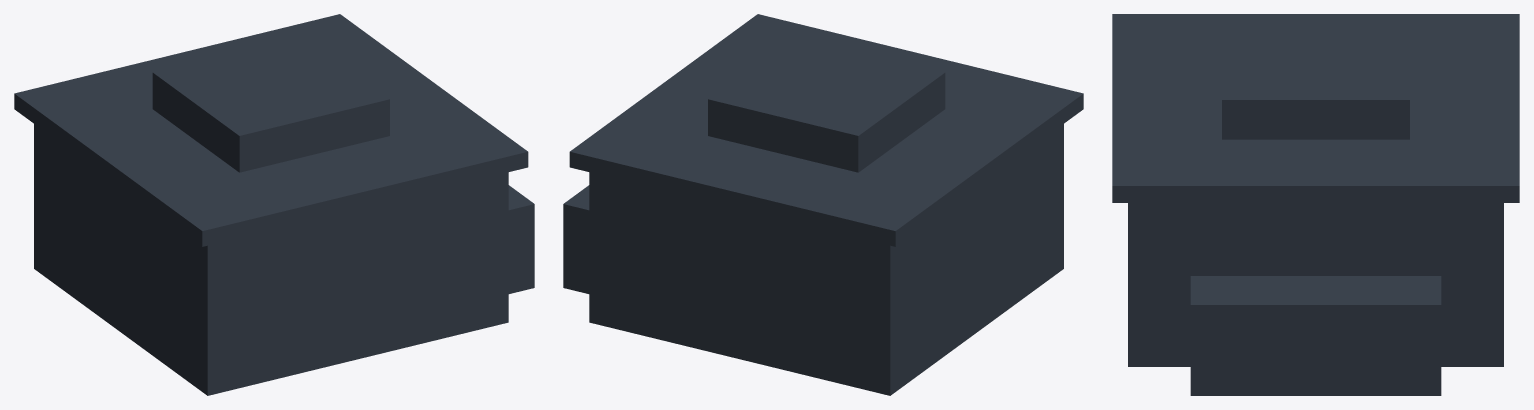
Rendered from building-fixture.glb.
3 views of the same model, side by side, from view 1: azimuth 30°, elevation 25°; view 2: azimuth 150°, elevation 25°; view 3: azimuth 270°, elevation 25° (orthographic). The views are drawn at different scales.
Visible parts, largest first — view 1: BuildingFixture; view 2: BuildingFixture; view 3: BuildingFixture.
Boxes of the visible parts, box(x1,y1,x2,y2) form: BuildingFixture: box(14, 14, 534, 395); BuildingFixture: box(563, 14, 1083, 395); BuildingFixture: box(1112, 14, 1519, 395).
Size of the model in its own units: 2.94 by 1.6 by 2.6.
